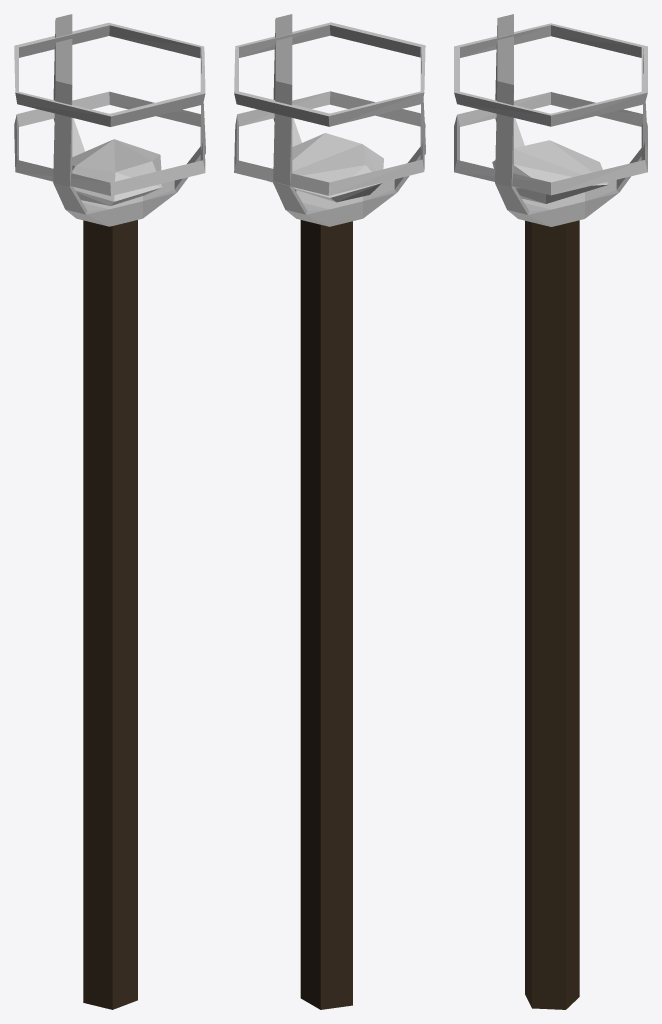
File: FIREPLACE_HIGH2.OBJ
3 renders of one model, left to right at view 1: azimuth 30°, elevation 25°; view 2: azimuth 150°, elevation 25°; view 3: azimuth 270°, elevation 25°, orthographic.
Visible parts, largest first — view 1: FIREPLACE_HIGH2; view 2: FIREPLACE_HIGH2; view 3: FIREPLACE_HIGH2.
Part boxes in pixels (box(x1,y1,x2,y2)): FIREPLACE_HIGH2: box(14, 14, 205, 1009); FIREPLACE_HIGH2: box(234, 14, 425, 1009); FIREPLACE_HIGH2: box(454, 14, 647, 1009).
Bounding box in the file's own units: 0.4538 × 2.17 × 0.4024.
